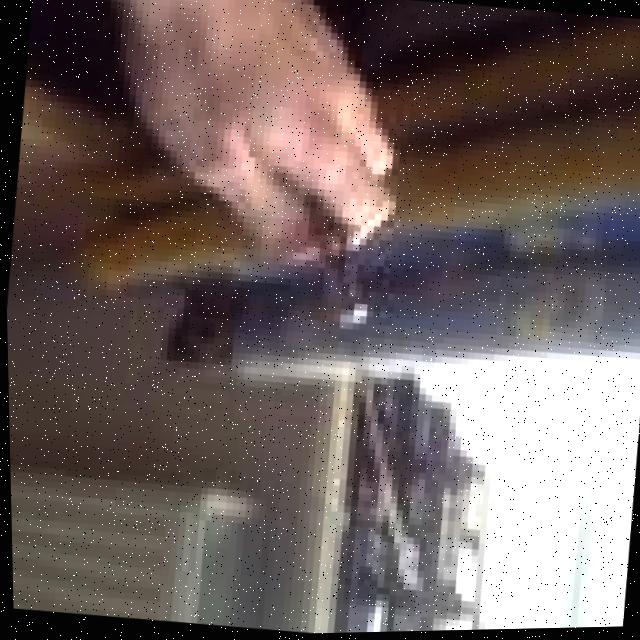knife: (295, 246, 506, 592)
